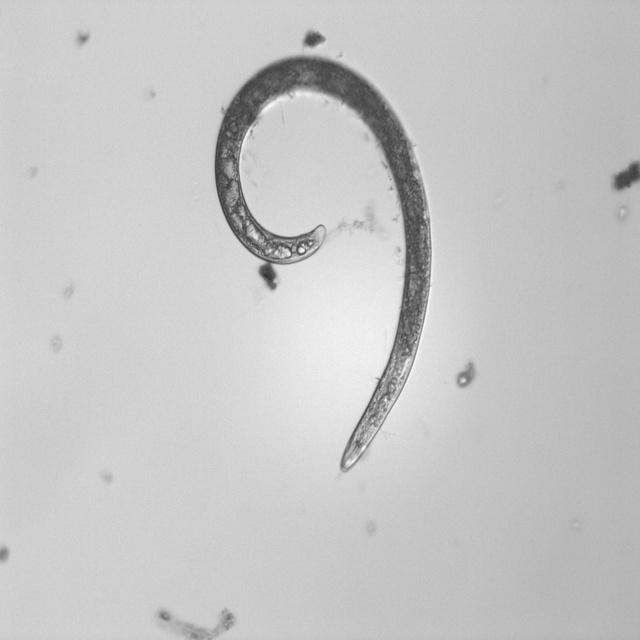Helicotylenchus: (202, 50, 442, 485)
